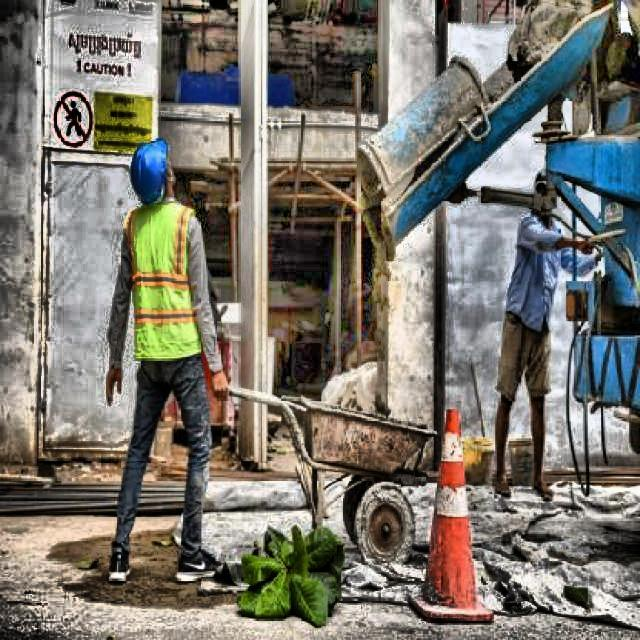safety_helmet: (130, 136, 171, 205)
safety_jacket: (125, 201, 204, 361)
